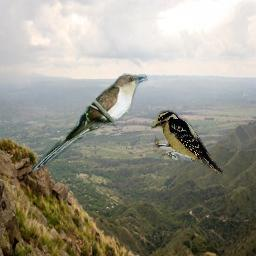Cuckoo: (29, 73, 150, 176)
Woodpecker: (151, 108, 223, 174)
